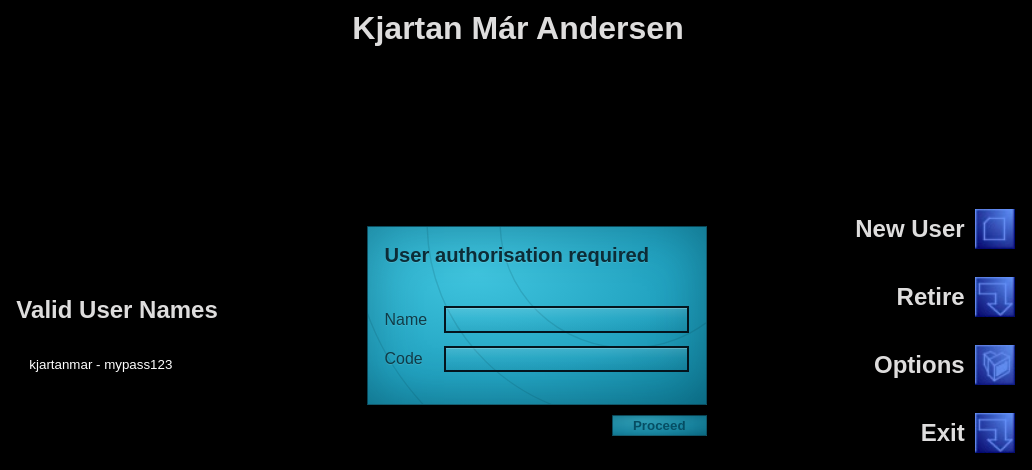
Login page › auto-fills the credentials when the hint button is clicked
Step 1. Click the button "kjartanmar - mypass123" → (101, 365), box [26, 354, 175, 375]
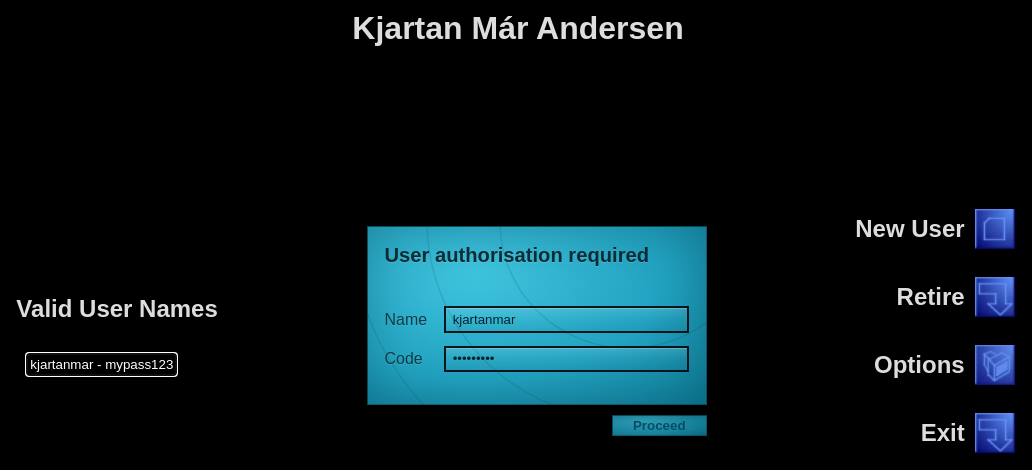
Result: the field labelled "Name" holds "kjartanmar" at [444, 306, 688, 333]
Result: the field labelled "Code" holds "mypass123" at [444, 346, 688, 372]
